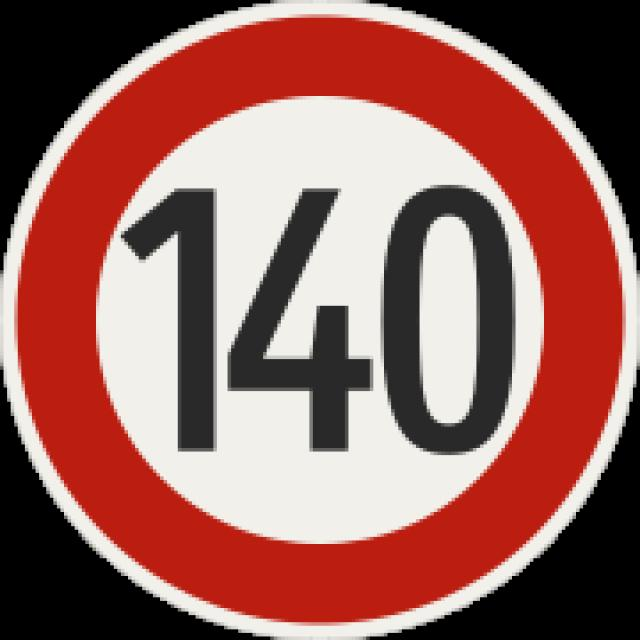Speed Limit: (25, 57, 595, 546)
